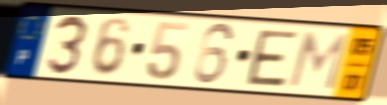3: (43, 12, 89, 77)
5: (145, 19, 192, 82)
6: (192, 21, 235, 87), (89, 16, 132, 79)
E: (244, 28, 301, 90)
M: (286, 30, 351, 93)
